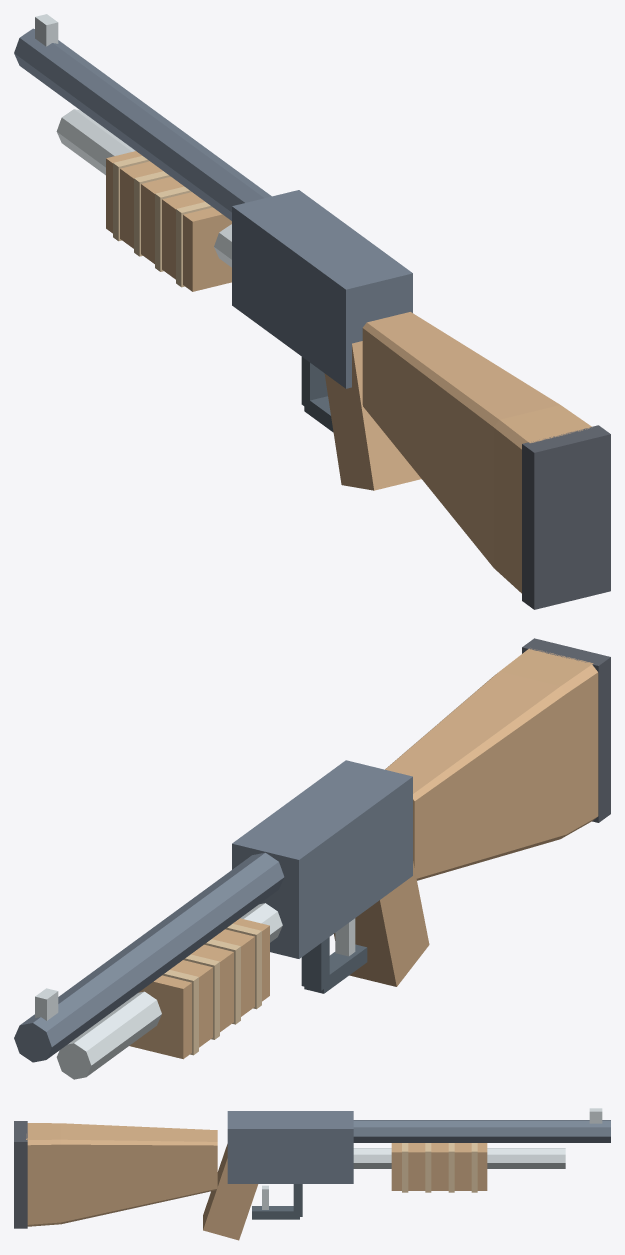
Rendered from shotgun.glb.
3 views of the same model, one above another, from view 1: azimuth 30°, elevation 25°; view 2: azimuth 150°, elevation 25°; view 3: azimuth 270°, elevation 25° (orthographic). The views are drawn at different scales.
Parts seen in each view (by area): view 1: Wood_Stock, Receiver, Recoil_Pad, Upper_Barrel, Pump_Foreend, Wood_Grip, Lower_Tube, Trigger_Guard_Front; view 2: Wood_Stock, Receiver, Upper_Barrel, Pump_Foreend, Wood_Grip, Lower_Tube, Recoil_Pad, Trigger_Guard_Front, Trigger_Guard_Bottom, Pump_Rib_1, Pump_Rib_3, Pump_Rib_2 (+3 smaller); view 3: Wood_Stock, Receiver, Upper_Barrel, Pump_Foreend, Wood_Grip, Lower_Tube, Recoil_Pad, Trigger_Guard_Bottom, Pump_Rib_0, Pump_Rib_1, Pump_Rib_2, Pump_Rib_3 (+2 smaller).
Part boxes in pixels (x1=…): Wood_Stock: x1=362, y1=312, x2=592, y2=593; Receiver: x1=232, y1=190, x2=412, y2=388; Recoil_Pad: x1=522, y1=425, x2=610, y2=609; Upper_Barrel: x1=14, y1=28, x2=271, y2=220; Pump_Foreend: x1=106, y1=151, x2=231, y2=291; Wood_Grip: x1=324, y1=341, x2=421, y2=490; Lower_Tube: x1=56, y1=109, x2=231, y2=267; Trigger_Guard_Front: x1=301, y1=357, x2=327, y2=409; Wood_Stock: x1=385, y1=648, x2=598, y2=880; Receiver: x1=232, y1=760, x2=412, y2=958; Upper_Barrel: x1=14, y1=852, x2=284, y2=1062; Pump_Foreend: x1=129, y1=918, x2=269, y2=1059; Wood_Grip: x1=334, y1=861, x2=429, y2=986; Lower_Tube: x1=56, y1=903, x2=282, y2=1079; Recoil_Pad: x1=522, y1=638, x2=610, y2=822; Trigger_Guard_Front: x1=301, y1=937, x2=329, y2=990; Trigger_Guard_Bottom: x1=304, y1=944, x2=367, y2=993; Pump_Rib_1: x1=183, y1=954, x2=219, y2=1039; Pump_Rib_3: x1=225, y1=923, x2=261, y2=1009; Pump_Rib_2: x1=204, y1=939, x2=240, y2=1024; Wood_Stock: x1=26, y1=1123, x2=217, y2=1226; Receiver: x1=227, y1=1111, x2=353, y2=1183; Upper_Barrel: x1=353, y1=1120, x2=610, y2=1142; Pump_Foreend: x1=391, y1=1143, x2=487, y2=1190; Wood_Grip: x1=203, y1=1144, x2=258, y2=1240; Lower_Tube: x1=353, y1=1148, x2=565, y2=1168; Recoil_Pad: x1=14, y1=1121, x2=27, y2=1228; Trigger_Guard_Bottom: x1=252, y1=1206, x2=299, y2=1219; Pump_Rib_0: x1=471, y1=1143, x2=477, y2=1192; Pump_Rib_1: x1=448, y1=1143, x2=454, y2=1192; Pump_Rib_2: x1=425, y1=1143, x2=431, y2=1192; Pump_Rib_3: x1=402, y1=1143, x2=408, y2=1192.
Bounding box in the file's own units: 0.102 × 0.2693 × 1.18.
